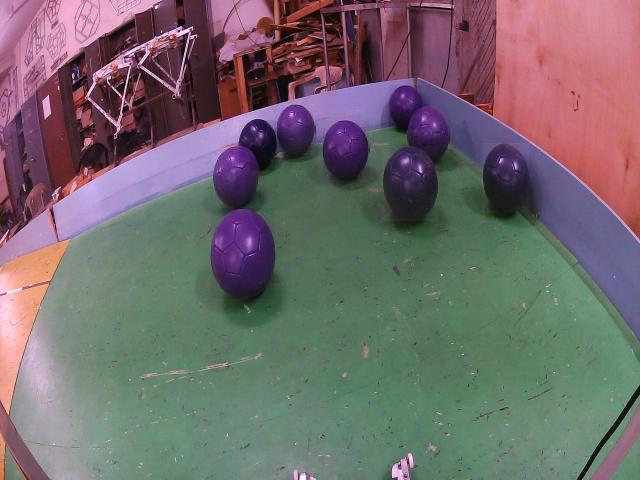jambhalya: (211, 209, 275, 299), (214, 145, 259, 208), (324, 120, 369, 180), (407, 107, 449, 163), (277, 105, 315, 155), (389, 85, 422, 130)
kaalyya: (382, 146, 438, 221), (483, 144, 529, 213), (239, 120, 276, 170)
